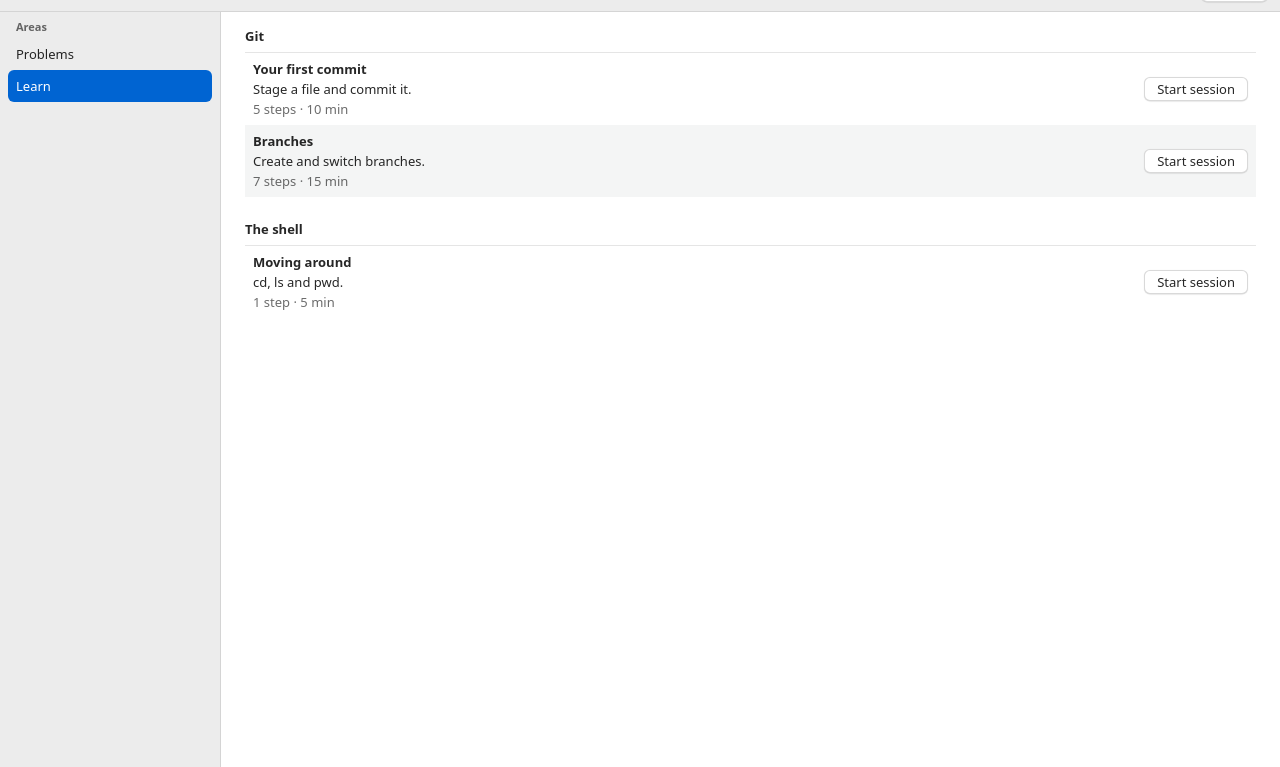
it: LearnWindow › shows an error when the session cannot be started
This screenshot has width=1280, height=767.
Check: the heading "Moving around" is shown, box [253,253,351,271]
Click the button with aria-label "Start session: Branches" at (1196, 161), box [1144,149,1248,173]
(page scrolled)
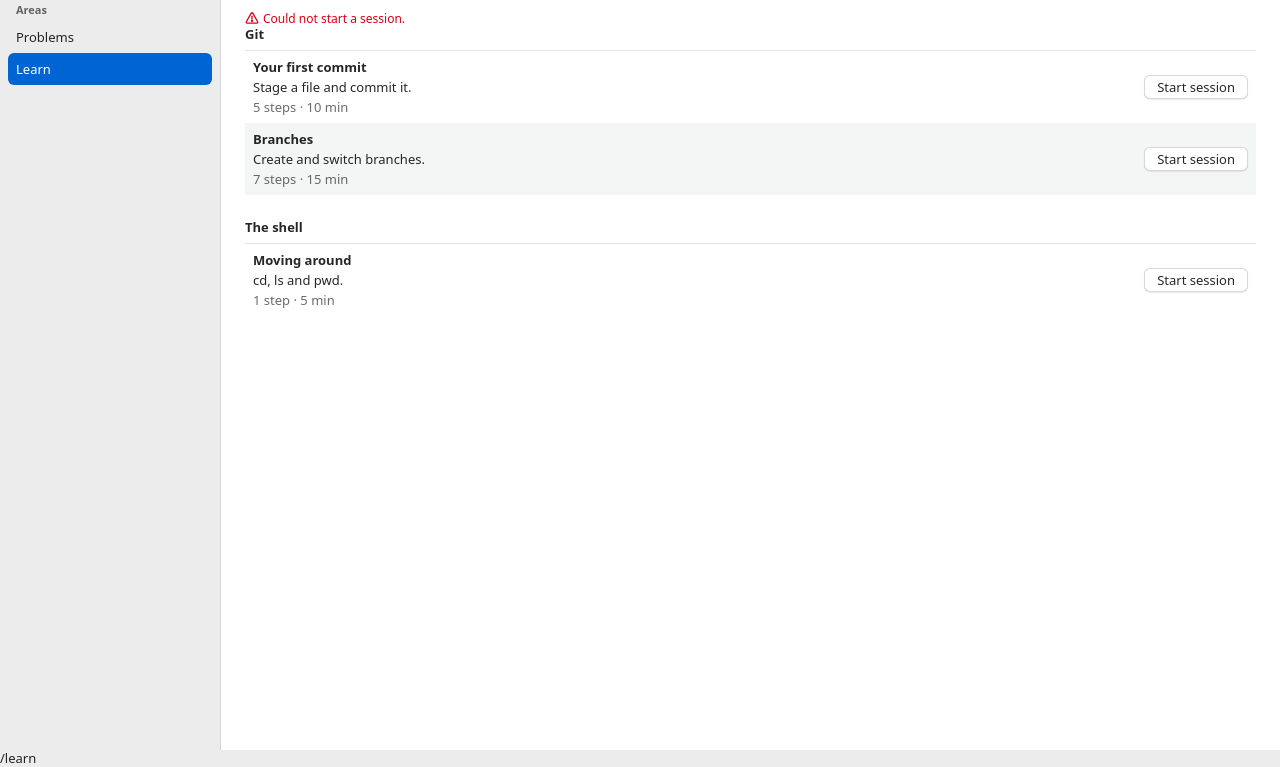
Check: the text named "location" reads "/learn", box [0,749,36,766]
Check: the text "Could not start a session." is shown, box [263,11,405,26]
